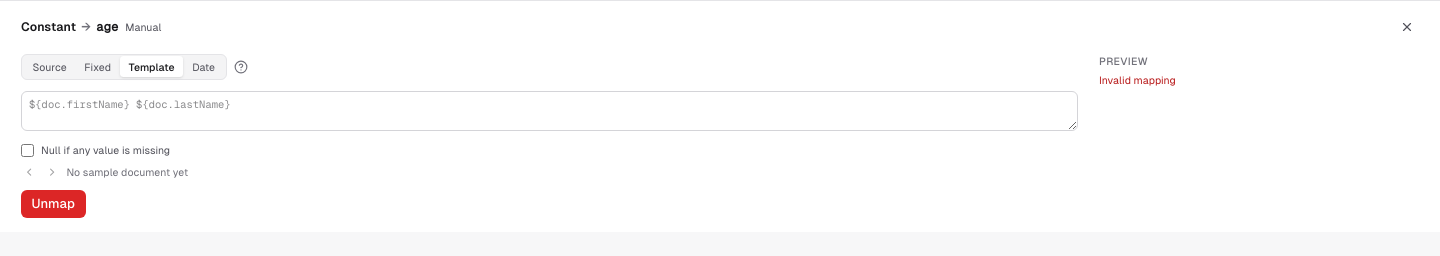
Test: Computed fields in the Inspector › the server's reason shows when the preview can't run
The width and height of the screenshot is (1440, 256).
Type "x" into the text box named "Template" at (550, 111), box [21, 90, 1078, 131]
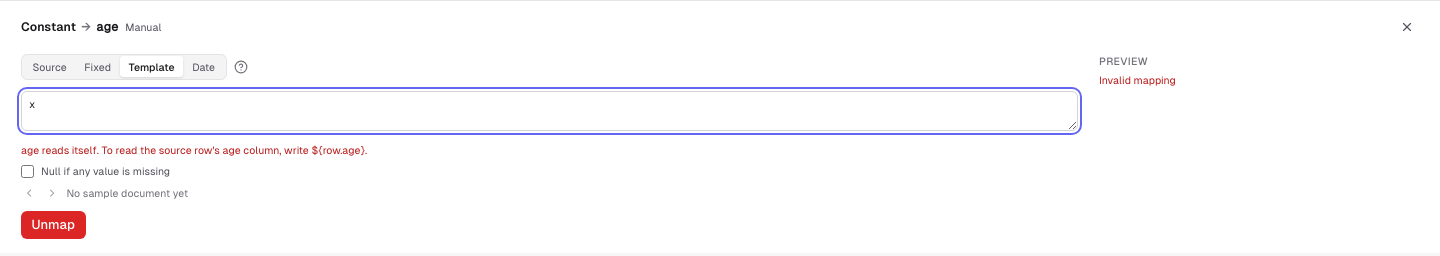
Expected: the message reads "age reads itself. To read the source row's age column, write ${row.age}.", [21, 144, 367, 156]
